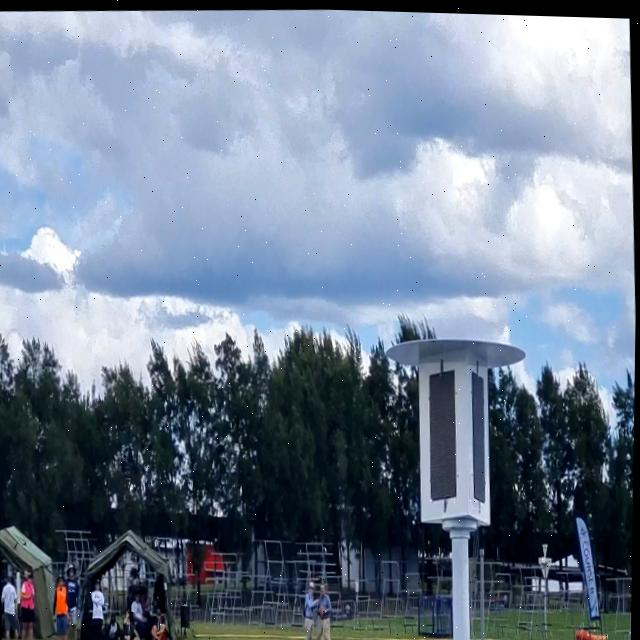led: (420, 356, 465, 501)
